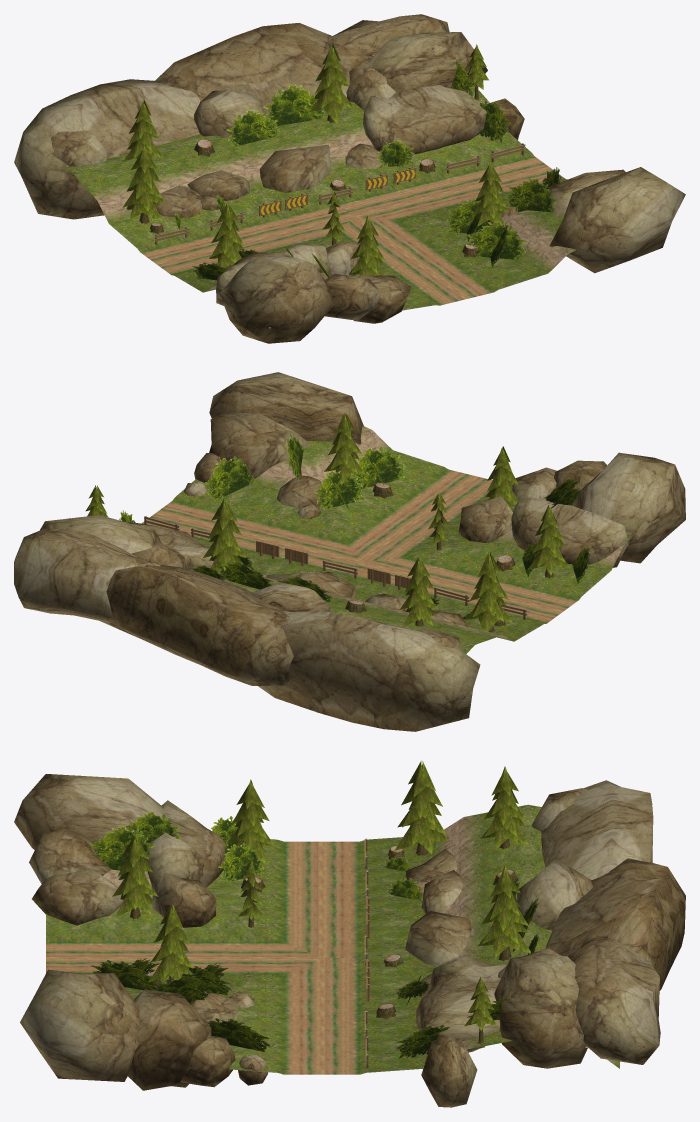
File: BikeRoad015.FBX
3 renders of one model, top to bottom at view 1: azimuth 30°, elevation 25°; view 2: azimuth 150°, elevation 25°; view 3: azimuth 270°, elevation 25°, orthographic. The views are drawn at different scales.
Visible parts, largest first — view 1: Rock (×20), Ground, Tree (×8), GrassPlane (×7); view 2: Rock (×16), Ground, Tree (×7), GrassPlane (×4); view 3: Rock (×21), Ground, Tree (×8), GrassPlane (×9).
Boxes of the visible parts, bbox=[...] form: Rock (×20): bbox=[14, 14, 685, 343]; Ground: bbox=[62, 86, 577, 328]; Tree (×8): bbox=[122, 43, 509, 275]; GrassPlane (×7): bbox=[226, 84, 557, 260]; Rock (×16): bbox=[14, 372, 685, 731]; Ground: bbox=[141, 425, 631, 653]; Tree (×7): bbox=[203, 413, 570, 632]; GrassPlane (×4): bbox=[204, 446, 405, 589]; Rock (×21): bbox=[14, 774, 685, 1107]; Ground: bbox=[46, 804, 619, 1074]; Tree (×8): bbox=[112, 761, 530, 1048]; GrassPlane (×9): bbox=[88, 811, 449, 1058].
Bounding box in the file's own units: 4651 × 1375 × 4871.
